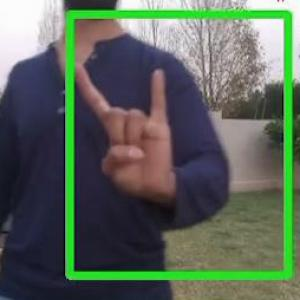takeoff-hand: (60, 22, 186, 228)
